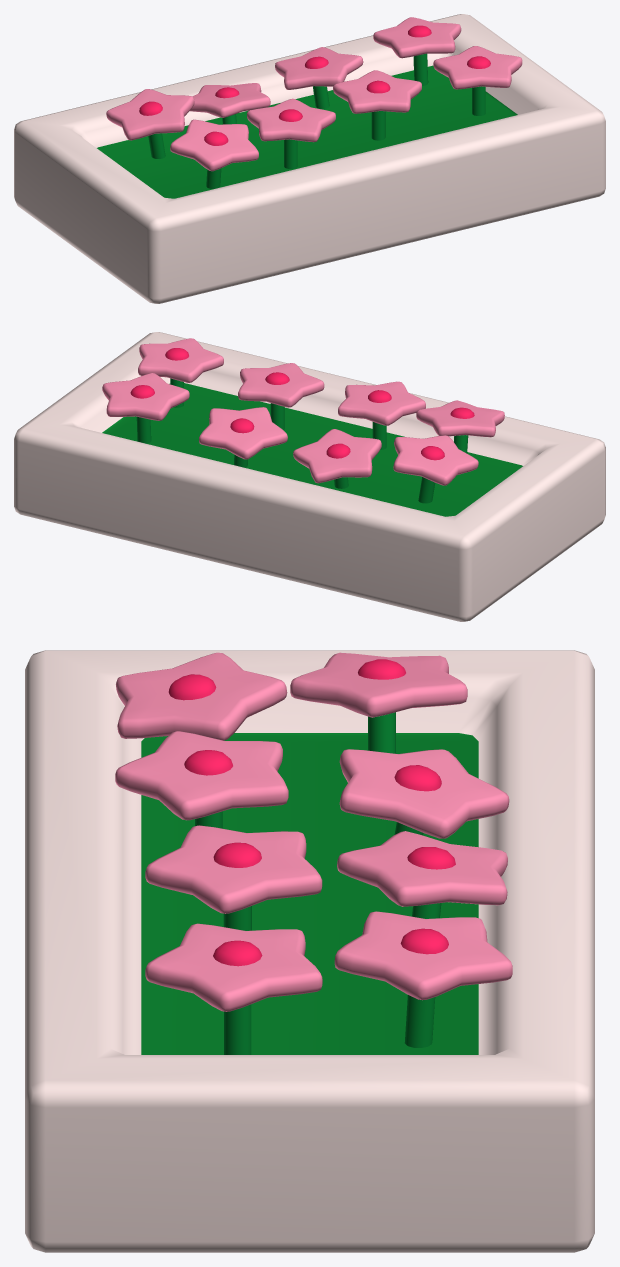
The model's file is Farm_9_Garden_with_Flowers_1.glb.
The picture shows the model from 3 angles, top to bottom: view 1: azimuth 30°, elevation 25°; view 2: azimuth 150°, elevation 25°; view 3: azimuth 270°, elevation 25°; orthographic projection. The views are drawn at different scales.
Parts seen in each view (by area): view 1: Farm_9_Garden_with_Flowers_1; view 2: Farm_9_Garden_with_Flowers_1; view 3: Farm_9_Garden_with_Flowers_1.
Boxes of the visible parts, box(x1,y1,x2,y2) form: Farm_9_Garden_with_Flowers_1: box(14, 14, 605, 303); Farm_9_Garden_with_Flowers_1: box(14, 332, 605, 621); Farm_9_Garden_with_Flowers_1: box(25, 650, 594, 1252).
Size of the model in its own units: 1.44 by 0.3609 by 0.7755.
1 material, 1 textured.
